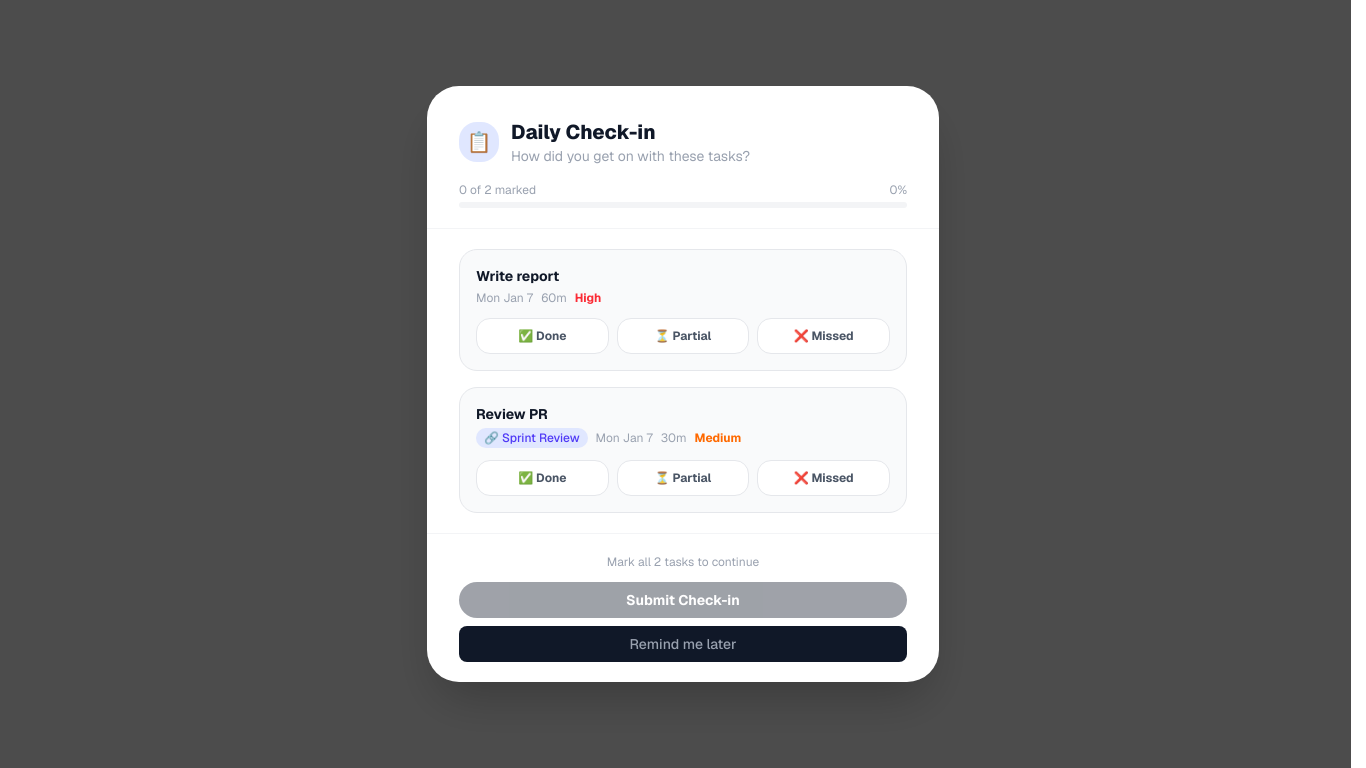
Test case: CheckInModal — footer › enables submit button when all tasks answered
This screenshot has width=1366, height=768.
Click the button "✅ Done" below "60".
click(542, 336)  # box [476, 318, 609, 354]
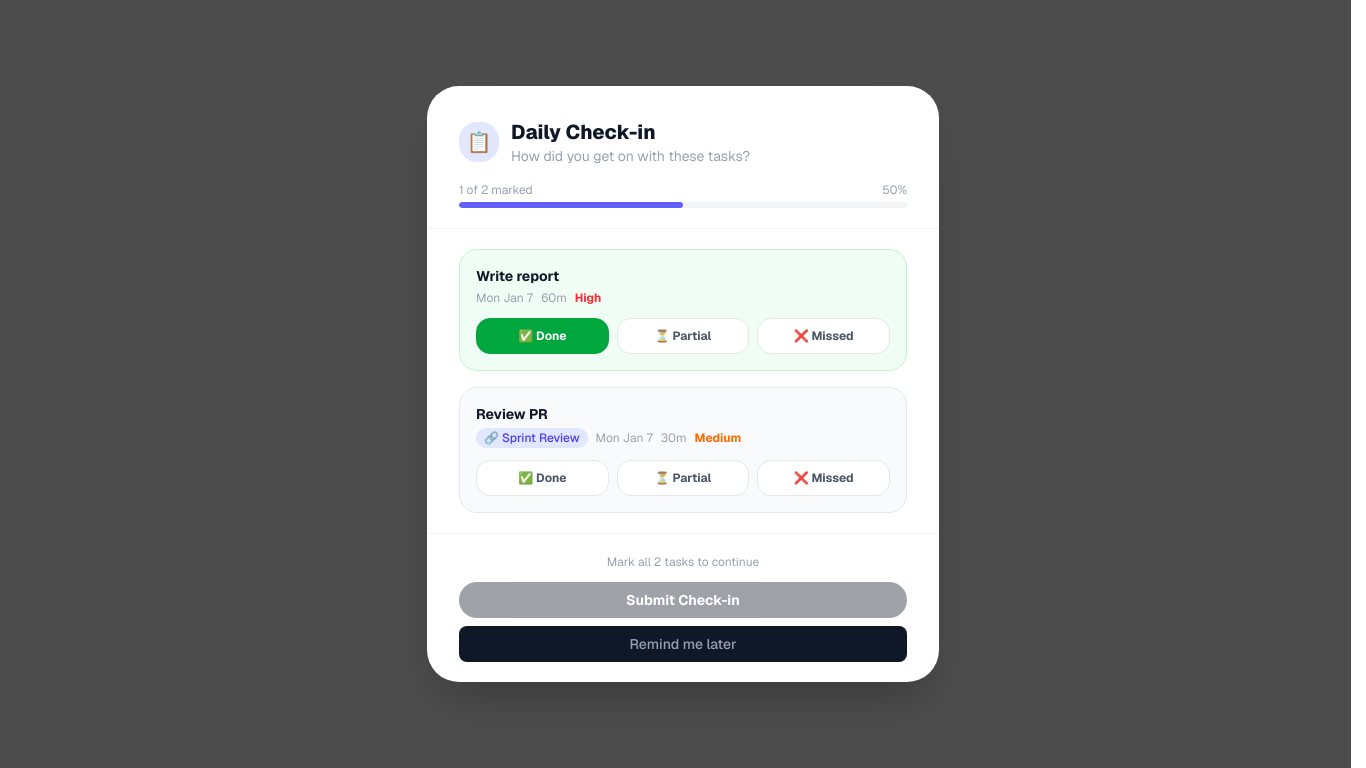
Click the button "✅ Done" below "Sprint Review".
click(542, 478)  # box [476, 460, 609, 496]
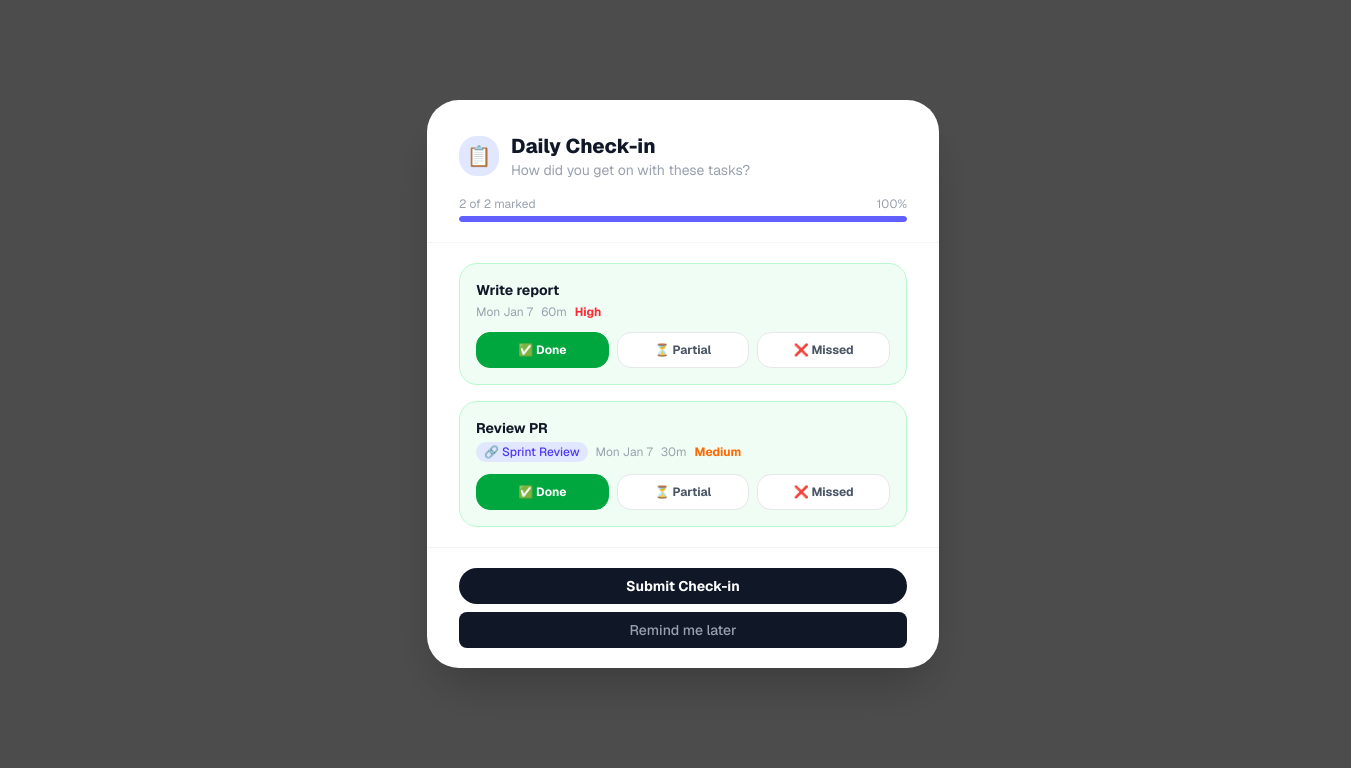
Expected: the button "Submit Check-in" is enabled, [459, 568, 907, 604]
